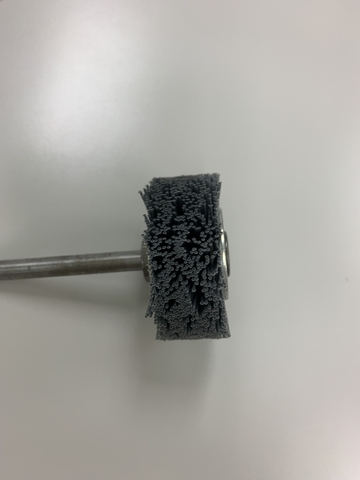Wheel Brush: (70, 161, 262, 370), (21, 168, 240, 348), (16, 181, 239, 340)
